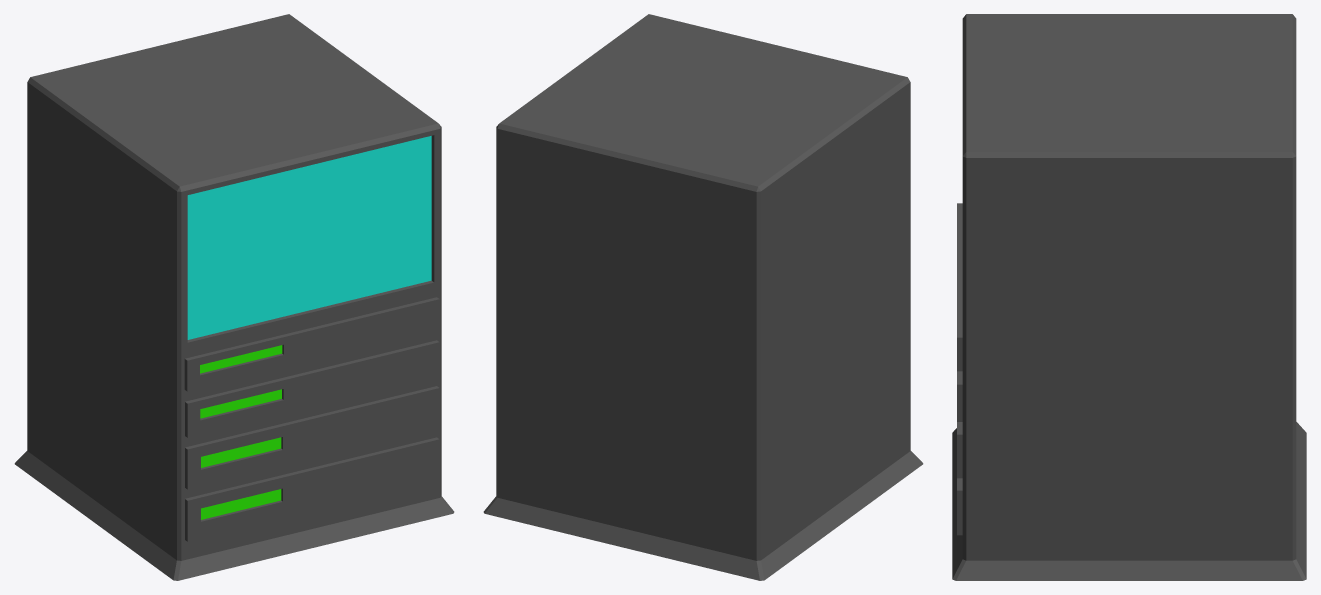
The model's file is Terminal.fbx.
3 views of the same model, side by side, from view 1: azimuth 30°, elevation 25°; view 2: azimuth 150°, elevation 25°; view 3: azimuth 270°, elevation 25° (orthographic). The views are drawn at different scales.
Visible parts, largest first — view 1: pCube1; view 2: pCube1; view 3: pCube1.
Boxes of the visible parts, <box> form: pCube1: <box>14,14,454,580</box>; pCube1: <box>483,14,923,580</box>; pCube1: <box>952,14,1306,580</box>.
Bounding box in the file's own units: 5.31 × 7 × 5.31.
Materials: 1 (1 with a texture image).
